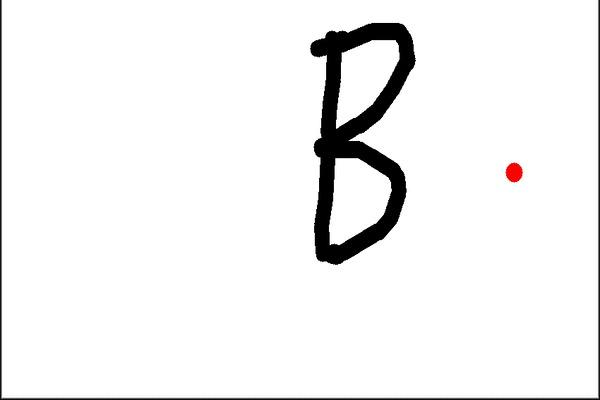B: (295, 13, 419, 269)
